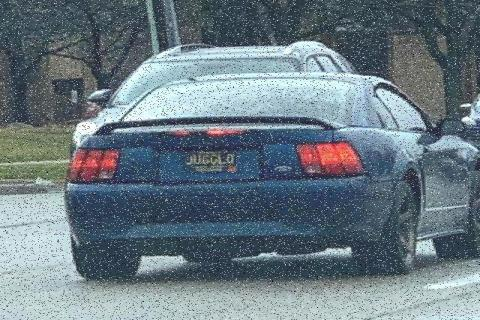LicensePlate: (180, 147, 235, 173)
